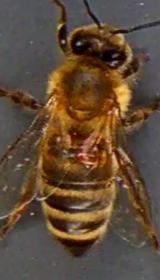varroa_mite: (70, 142, 102, 168)
